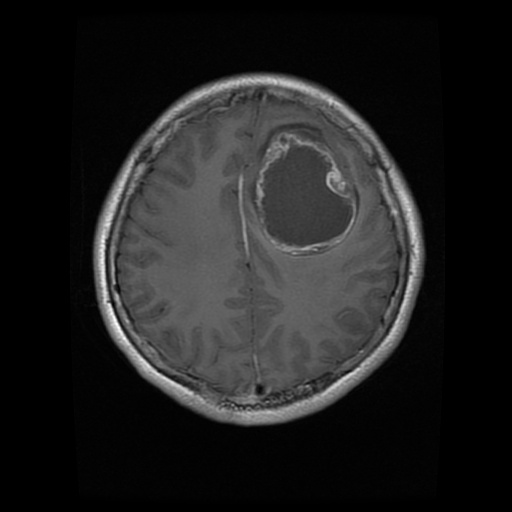glioma: (254, 121, 359, 256)
